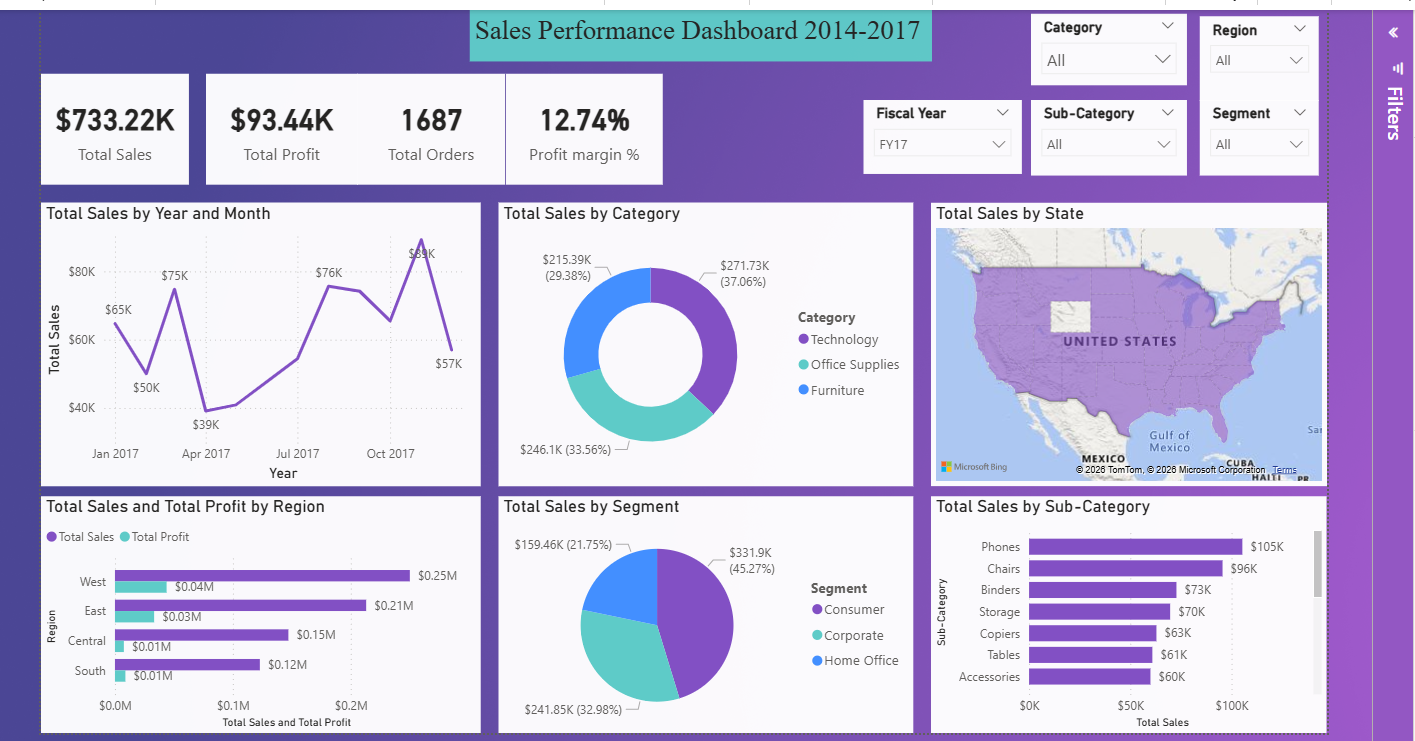

The dashboard page shown, as its layout file describes it:
{"tool":"powerbi","page":{"name":"Sales performance dashboard","canvas":[1280,720],"ordinal":3},"visuals":[{"type":"card","fields":{"Values":["Core Measuretbl.Total Sales"]},"box":[0,63.8,147.5,110],"z":0},{"type":"card","fields":{"Values":["Core Measuretbl.Total Profit"]},"box":[163.8,63.8,151.2,110],"z":1000},{"type":"card","fields":{"Values":["Core Measuretbl.Total Orders"]},"box":[315,63.8,147.5,110],"z":2000},{"type":"card","fields":{"Values":["Core Measuretbl.Profit margin %"]},"box":[462.5,63.8,156.2,110],"z":3000},{"type":"lineChart","fields":{"Y":["Core Measuretbl.Total Sales"],"Category":["Datetbl.Date.Variation.Date Hierarchy.Year","Datetbl.Date.Variation.Date Hierarchy.Month"]},"box":[0,191.6,437.9,282.4],"z":4000},{"type":"clusteredBarChart","fields":{"Category":["Superstoretbl.Region"],"Y":["Core Measuretbl.Total Sales","Core Measuretbl.Total Profit"]},"box":[0,483.9,437.9,236.4],"z":5000},{"type":"donutChart","fields":{"Y":["Core Measuretbl.Total Sales"],"Category":["Superstoretbl.Category"]},"box":[455.3,191.6,413,282.4],"z":6000},{"type":"pieChart","fields":{"Y":["Core Measuretbl.Total Sales"],"Category":["Superstoretbl.Segment"]},"box":[455.3,483.9,413,236.4],"z":7000},{"type":"filledMap","fields":{"Category":["Superstoretbl.State"]},"box":[885.7,191.6,394.3,282.4],"z":8000},{"type":"barChart","fields":{"Category":["Superstoretbl.Sub-Category"],"Y":["Core Measuretbl.Total Sales"]},"box":[886.2,483.8,393.8,236.2],"z":9000},{"type":"slicer","fields":{"Values":["Superstoretbl.Category"]},"box":[985,3.8,155,71.2],"z":10000},{"type":"slicer","fields":{"Values":["Superstoretbl.Region"]},"box":[1153.8,6.2,118.8,83.8],"z":11000},{"type":"slicer","fields":{"Values":["Superstoretbl.Segment"]},"box":[1153.8,90,118.8,75],"z":12000},{"type":"slicer","fields":{"Values":["Superstoretbl.Sub-Category"]},"box":[985,90,155,75],"z":13000},{"type":"textbox","box":[426.2,0,460,51.2],"z":14000},{"type":"slicer","fields":{"Values":["Datetbl.Fiscal Year"]},"box":[818.8,90,157.5,73.8],"z":15000}]}

Visuals, with their boxes in screenshot pixels (x1, y1, x2, y2):
card - Core Measuretbl.Total Sales: {"x1": 29, "y1": 68, "x2": 179, "y2": 180}
card - Core Measuretbl.Total Profit: {"x1": 196, "y1": 68, "x2": 349, "y2": 180}
card - Core Measuretbl.Total Orders: {"x1": 349, "y1": 68, "x2": 499, "y2": 180}
card - Core Measuretbl.Profit margin %: {"x1": 499, "y1": 68, "x2": 657, "y2": 180}
lineChart - Core Measuretbl.Total Sales x Datetbl.Date.Variation.Date Hierarchy.Year: {"x1": 29, "y1": 198, "x2": 474, "y2": 485}
clusteredBarChart - Superstoretbl.Region x Core Measuretbl.Total Sales: {"x1": 29, "y1": 495, "x2": 474, "y2": 734}
donutChart - Core Measuretbl.Total Sales x Superstoretbl.Category: {"x1": 491, "y1": 198, "x2": 910, "y2": 485}
pieChart - Core Measuretbl.Total Sales x Superstoretbl.Segment: {"x1": 491, "y1": 495, "x2": 910, "y2": 734}
filledMap - Superstoretbl.State: {"x1": 928, "y1": 198, "x2": 1328, "y2": 485}
barChart - Superstoretbl.Sub-Category x Core Measuretbl.Total Sales: {"x1": 929, "y1": 494, "x2": 1328, "y2": 734}
slicer - Superstoretbl.Category: {"x1": 1029, "y1": 8, "x2": 1186, "y2": 80}
slicer - Superstoretbl.Region: {"x1": 1200, "y1": 10, "x2": 1321, "y2": 95}
slicer - Superstoretbl.Segment: {"x1": 1200, "y1": 95, "x2": 1321, "y2": 171}
slicer - Superstoretbl.Sub-Category: {"x1": 1029, "y1": 95, "x2": 1186, "y2": 171}
textbox: {"x1": 462, "y1": 4, "x2": 929, "y2": 56}
slicer - Datetbl.Fiscal Year: {"x1": 860, "y1": 95, "x2": 1020, "y2": 170}
